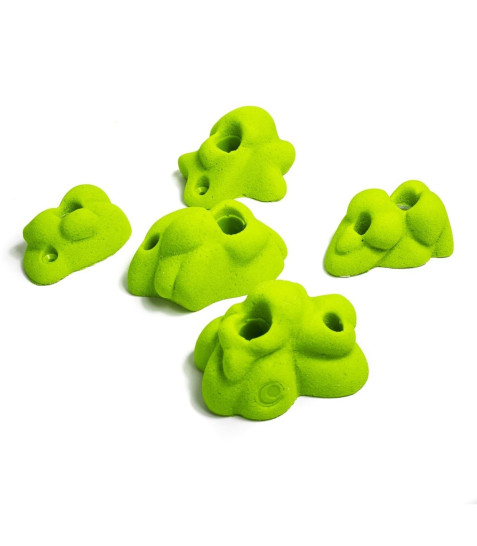hold: (192, 278, 366, 418), (124, 201, 284, 308), (321, 179, 450, 274), (175, 106, 293, 207), (21, 184, 128, 284)
